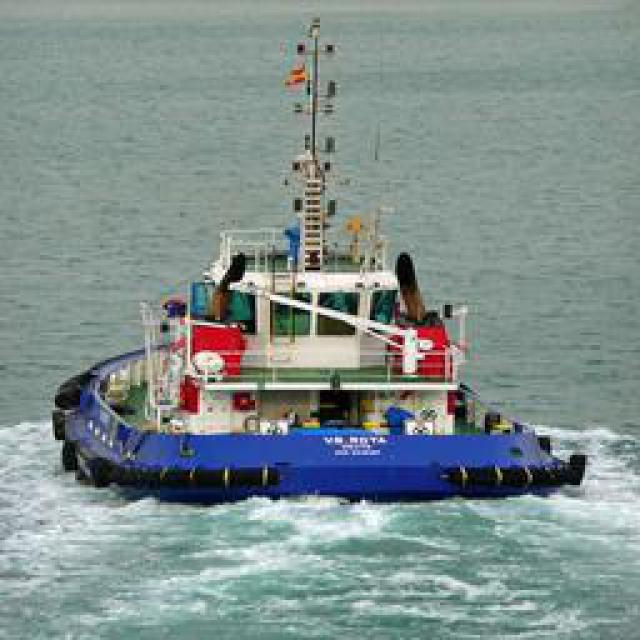Ship: (64, 173, 579, 501)
